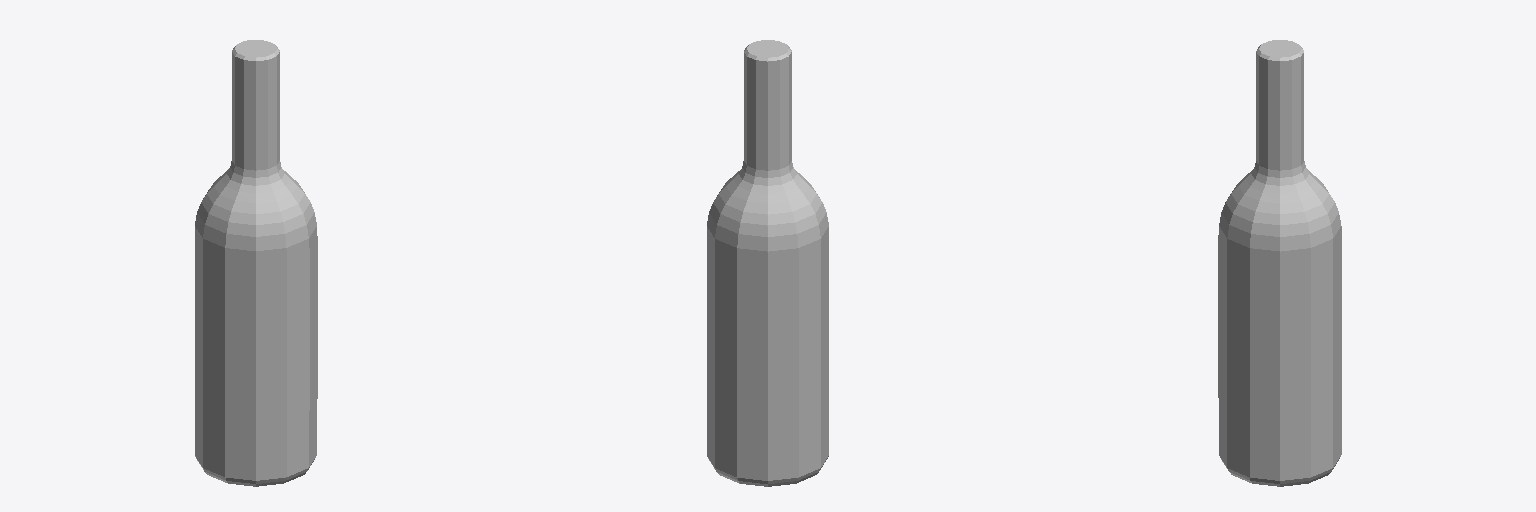
Rendered from vodka.obj.
3 views of the same model, side by side, from view 1: azimuth 30°, elevation 25°; view 2: azimuth 150°, elevation 25°; view 3: azimuth 270°, elevation 25° (orthographic).
Visible parts, largest first — view 1: item_food_vodka_LOD0; view 2: item_food_vodka_LOD0; view 3: item_food_vodka_LOD0.
Part boxes in pixels (left/top/right/bottom): item_food_vodka_LOD0: left=195, top=40, right=317, bottom=486; item_food_vodka_LOD0: left=707, top=40, right=828, bottom=486; item_food_vodka_LOD0: left=1218, top=40, right=1341, bottom=486.
Size of the model in its own units: 0.0878 by 0.3277 by 0.0881.